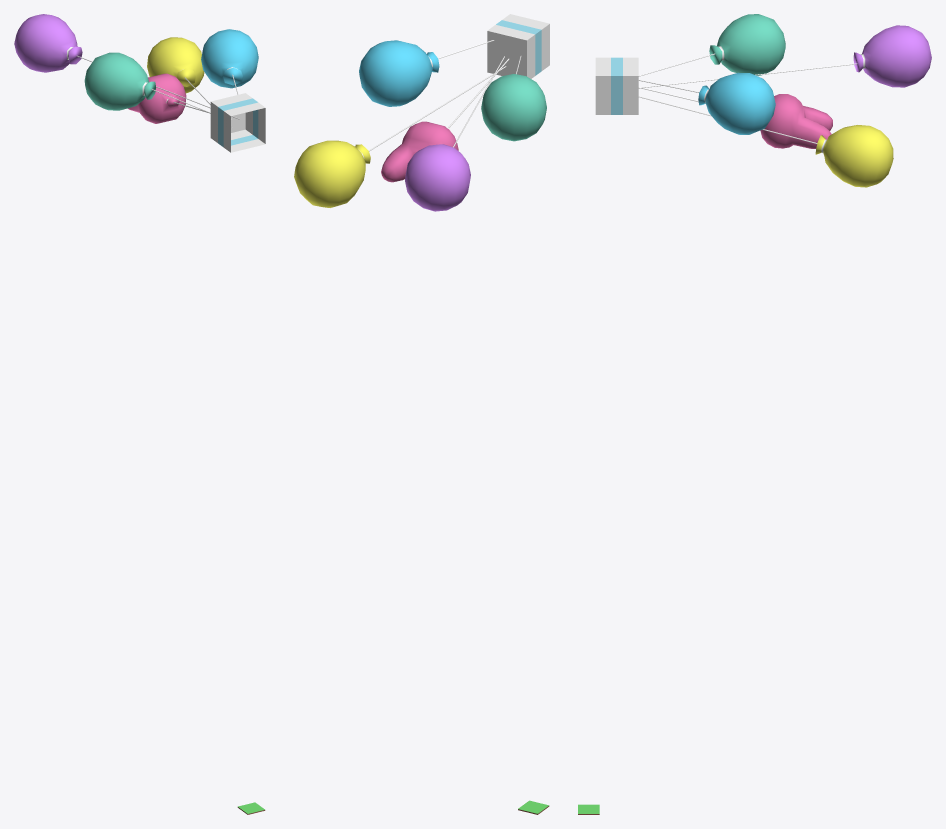
The model's file is MultiDefaultMap.glb.
3 renders of one model, left to right at view 1: azimuth 30°, elevation 25°; view 2: azimuth 150°, elevation 25°; view 3: azimuth 270°, elevation 25°, orthographic. The views are drawn at different scales.
Parts seen in each view (by area): view 1: Green_Balloon, Purple_Balloon, Box, Blue_Balloon, Yellow_Balloon, Pink_BunnyBalloon; view 2: Yellow_Balloon, Blue_Balloon, Purple_Balloon, Green_Balloon, Box, Pink_BunnyBalloon; view 3: Purple_Balloon, Yellow_Balloon, Blue_Balloon, Green_Balloon, Pink_BunnyBalloon, Box.
Boxes of the visible parts, x1,y1,x2,y2 form: Green_Balloon: (84, 52, 210, 113); Purple_Balloon: (14, 14, 240, 119); Box: (210, 93, 265, 152); Blue_Balloon: (201, 29, 258, 94); Yellow_Balloon: (147, 37, 232, 127); Pink_BunnyBalloon: (128, 73, 231, 123); Yellow_Balloon: (294, 66, 506, 207); Blue_Balloon: (359, 40, 494, 106); Purple_Balloon: (405, 56, 504, 211); Green_Balloon: (481, 56, 546, 141); Box: (487, 14, 549, 78); Pink_BunnyBalloon: (381, 58, 509, 182); Purple_Balloon: (638, 25, 931, 88); Yellow_Balloon: (638, 96, 893, 187); Blue_Balloon: (638, 72, 775, 134); Green_Balloon: (638, 14, 785, 76); Pink_BunnyBalloon: (638, 87, 832, 148); Box: (595, 57, 638, 114).
Bounding box in the file's own units: 306 × 1263 × 532.
Materials: 3 (3 with a texture image).
